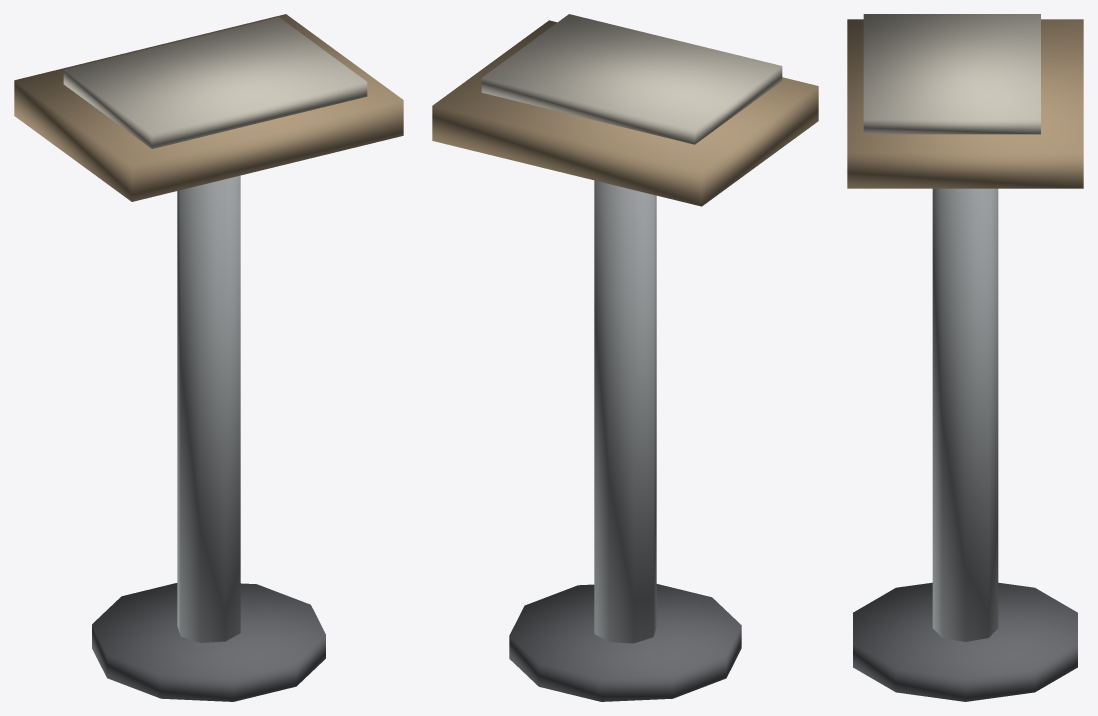
File: memorial_guestbook_stand.glb
The picture shows the model from 3 angles, left to right: view 1: azimuth 30°, elevation 25°; view 2: azimuth 150°, elevation 25°; view 3: azimuth 270°, elevation 25°; orthographic projection.
Visible parts, largest first — view 1: world; view 2: world; view 3: world.
Boxes of the visible parts, x1,y1,x2,y2 form: world: (14,14,403,701); world: (432,14,818,701); world: (847,14,1083,701).
Bounding box in the file's own units: 0.48 × 0.9825 × 0.36.
